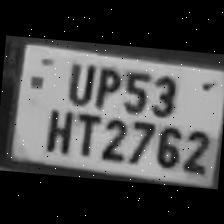2: (178, 123, 212, 174), (96, 112, 130, 162)
3: (147, 69, 181, 116)
5: (116, 64, 152, 114)
6: (150, 120, 183, 170)
7: (124, 113, 154, 166)
H: (38, 102, 74, 154)
P: (90, 61, 123, 110)
T: (68, 107, 102, 156)
U: (60, 56, 96, 104)
